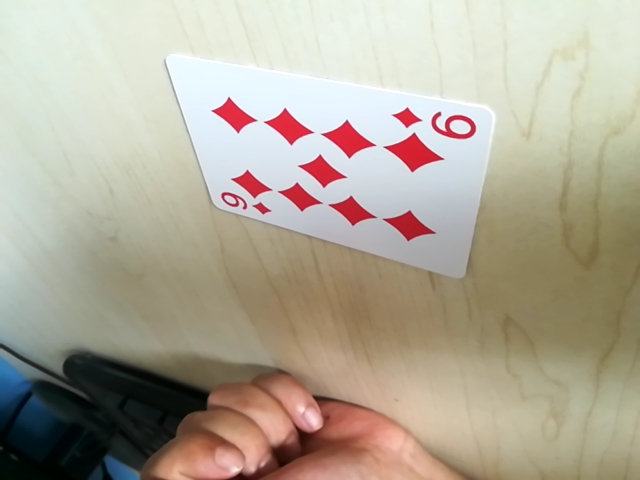fk 9: (392, 102, 486, 140), (213, 187, 273, 220)
